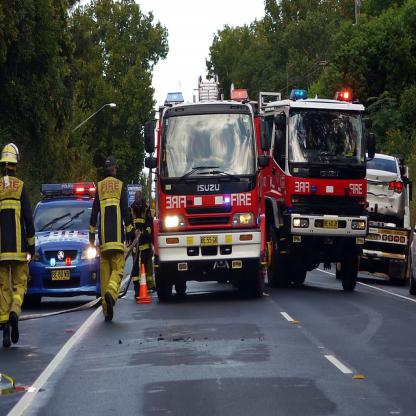Car: (24, 184, 105, 308), (364, 150, 408, 233)
Truck: (145, 91, 275, 300), (254, 89, 366, 298), (352, 145, 410, 293)
